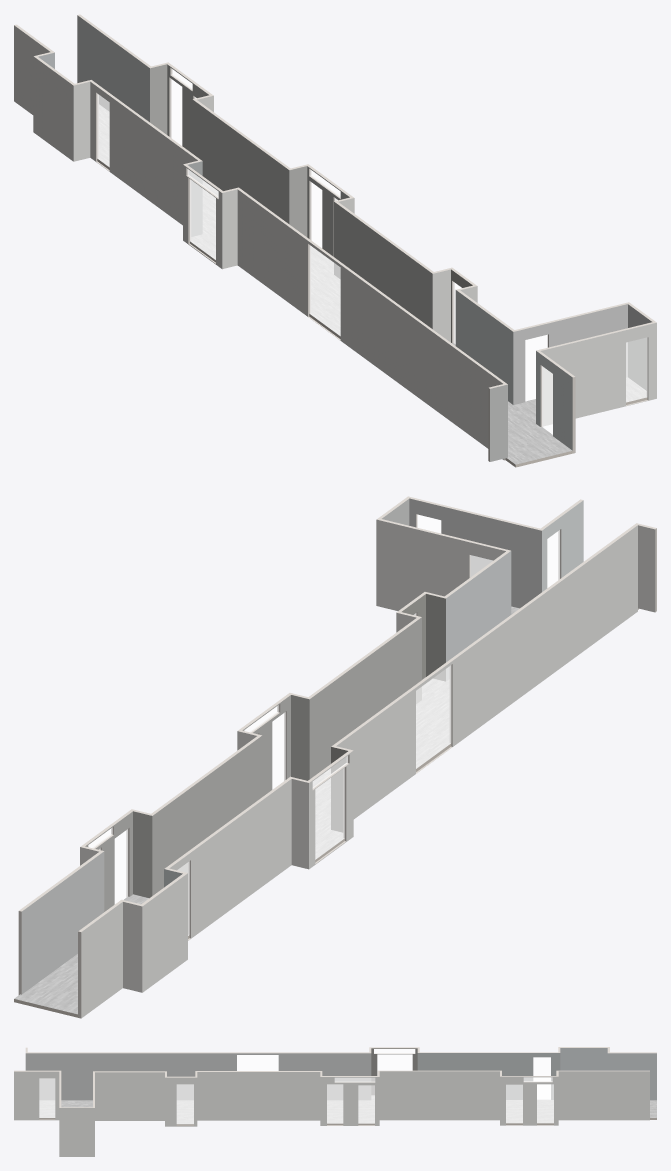
3 views of the same model, one above another, from view 1: azimuth 30°, elevation 25°; view 2: azimuth 150°, elevation 25°; view 3: azimuth 270°, elevation 25° (orthographic). The views are drawn at different scales.
Parts seen in each view (by area): view 1: wall_3, wall_17, wall_2, wall_43, floor_Other_1, wall_59, wall_53, wall_41, wall_73, wall_12, door_9, door_20 (+26 smaller); view 2: wall_3, wall_17, wall_59, wall_43, wall_23, wall_53, floor_Other_1, wall_31, wall_41, wall_12, wall_15, door_9 (+19 smaller); view 3: wall_33, wall_16, wall_8, wall_13, wall_7, wall_61, floor_Other_1, wall_9, wall_24, wall_14, wall_21, wall_57 (+26 smaller).
Boxes of the visible parts, bbox=[...] form: wall_3: bbox=[237, 189, 503, 459]; wall_17: bbox=[90, 82, 197, 225]; wall_2: bbox=[540, 322, 656, 425]; wall_43: bbox=[192, 100, 289, 223]; floor_Other_1: bbox=[98, 104, 572, 464]; wall_59: bbox=[334, 202, 432, 328]; wall_53: bbox=[77, 15, 149, 122]; wall_41: bbox=[455, 290, 513, 404]; wall_73: bbox=[513, 304, 627, 404]; wall_12: bbox=[33, 56, 73, 161]; door_9: bbox=[310, 245, 340, 335]; door_20: bbox=[310, 245, 340, 335]; wall_3: bbox=[336, 525, 637, 819]; wall_17: bbox=[169, 779, 291, 940]; wall_59: bbox=[309, 617, 421, 778]; wall_43: bbox=[152, 736, 262, 895]; wall_23: bbox=[376, 519, 505, 614]; wall_53: bbox=[21, 851, 104, 994]; floor_Other_1: bbox=[14, 677, 450, 1014]; wall_31: bbox=[409, 498, 541, 608]; wall_41: bbox=[446, 551, 511, 680]; wall_12: bbox=[142, 873, 187, 992]; wall_15: bbox=[81, 902, 122, 1018]; door_9: bbox=[416, 665, 450, 768]; wall_33: bbox=[25, 1053, 371, 1100]; wall_16: bbox=[197, 1072, 320, 1120]; wall_8: bbox=[379, 1071, 499, 1120]; wall_13: bbox=[558, 1071, 649, 1120]; wall_7: bbox=[95, 1072, 164, 1120]; wall_61: bbox=[417, 1053, 560, 1099]; floor_Other_1: bbox=[39, 1095, 656, 1123]; wall_9: bbox=[59, 1108, 94, 1156]; wall_24: bbox=[14, 1071, 59, 1120]; wall_14: bbox=[320, 1077, 379, 1125]; wall_21: bbox=[500, 1076, 558, 1125]; wall_57: bbox=[607, 1053, 656, 1100].
Bounding box in the file's own units: 6.97 × 2.6 × 31.02.
59 materials, 2 textured.
